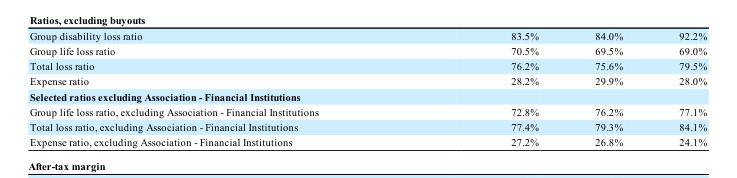table: (29, 29, 706, 147)
table column: (29, 29, 414, 147), (414, 29, 566, 147), (566, 29, 650, 147), (650, 29, 706, 147)
table column header: (29, 29, 706, 42)
table projected row header: (29, 88, 706, 103)
table row: (29, 42, 706, 58), (29, 118, 706, 134), (29, 58, 706, 73), (29, 73, 706, 88), (29, 88, 706, 103), (29, 103, 706, 118), (29, 29, 706, 42), (29, 134, 706, 147)
